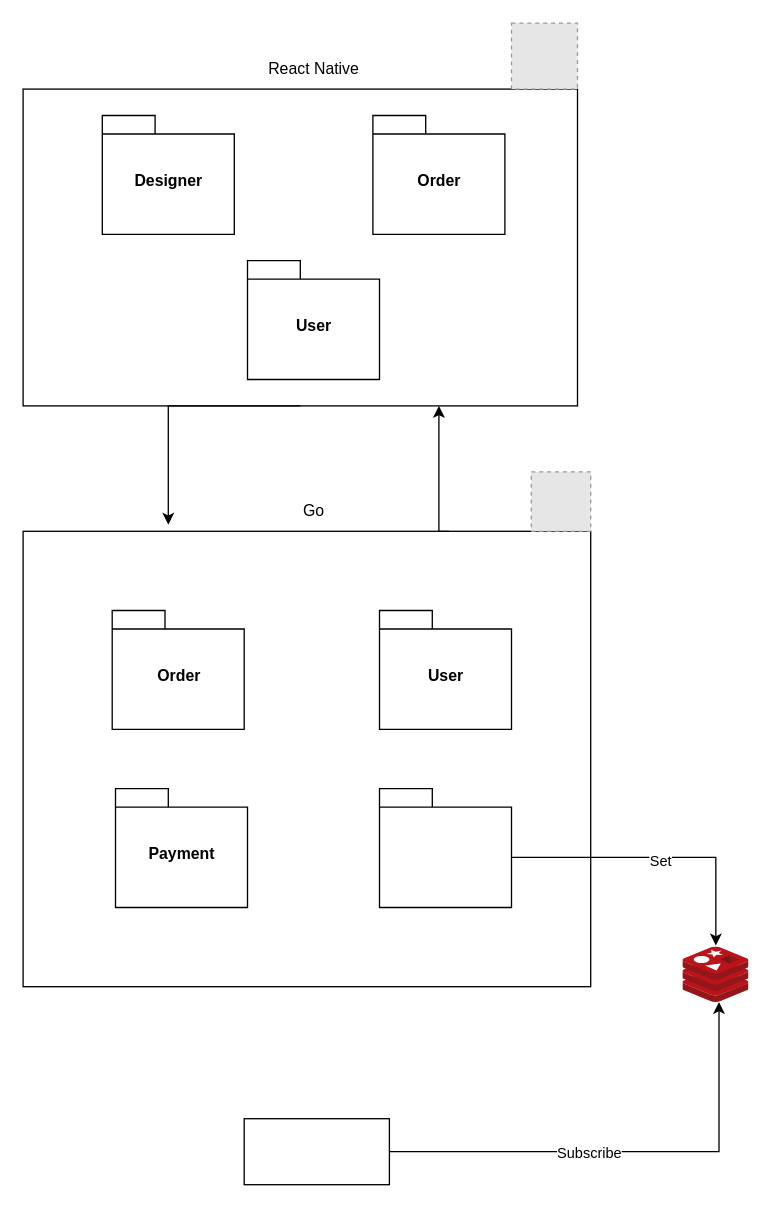
Image size: 772x1208. Some labels were removed from this diagram. Grey dashed boxes stand in for pictures. The shapes that lost their labels are listed below. From the top down, each one's centre as x and y in pixels, then its label:
At point 445,847: "Delivery".
At point 316,1151: "Delivery Contractor".
